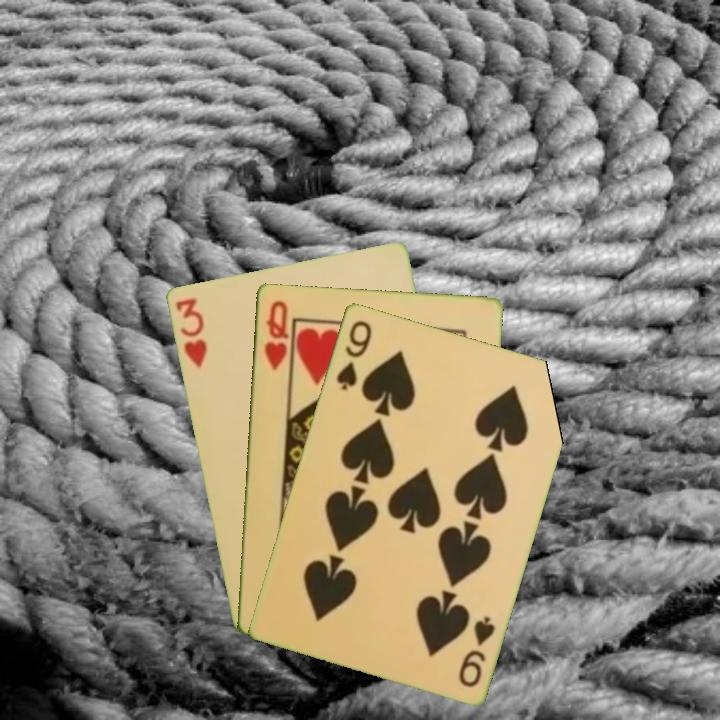3h: (171, 294, 210, 371)
9s: (455, 612, 498, 690), (332, 316, 374, 393)
Qh: (260, 297, 291, 373)
